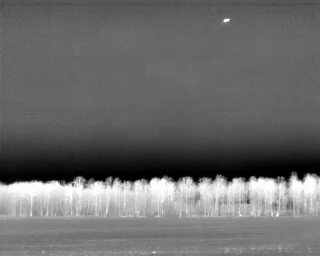DRONE: (220, 15, 233, 27)
